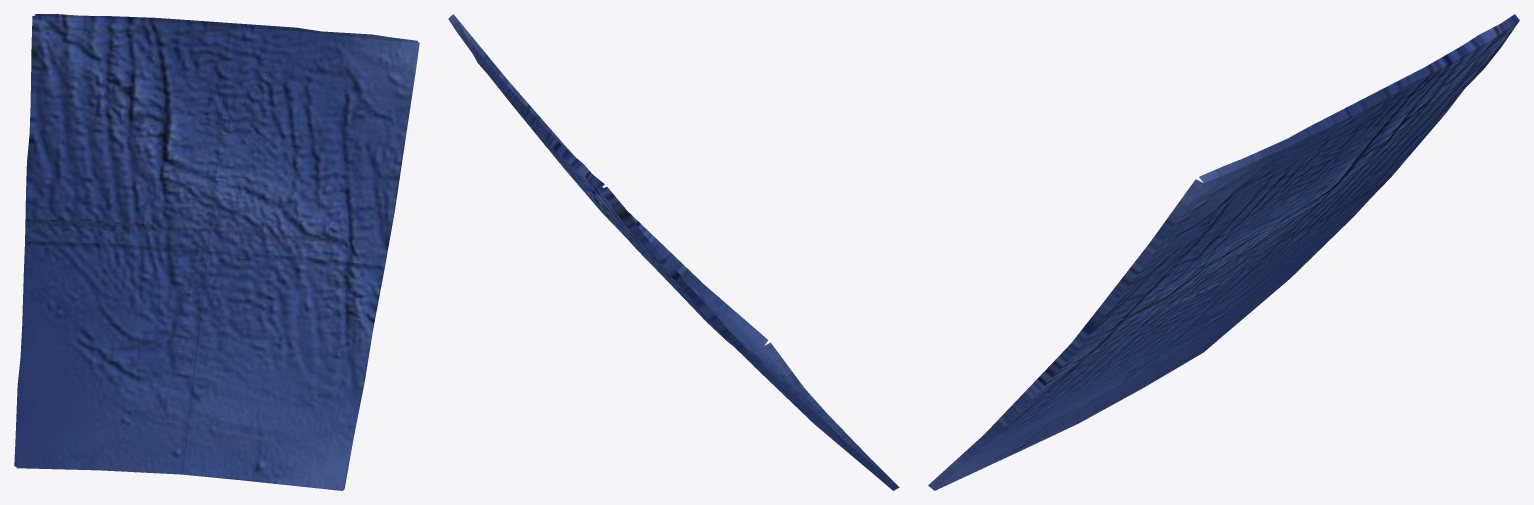
The picture shows the model from 3 angles, left to right: view 1: azimuth 30°, elevation 25°; view 2: azimuth 150°, elevation 25°; view 3: azimuth 270°, elevation 25°; orthographic projection. The views are drawn at different scales.
Bounding box in the file's own units: 1258158 × 984616 × 1238865.
1 material, 1 textured.
